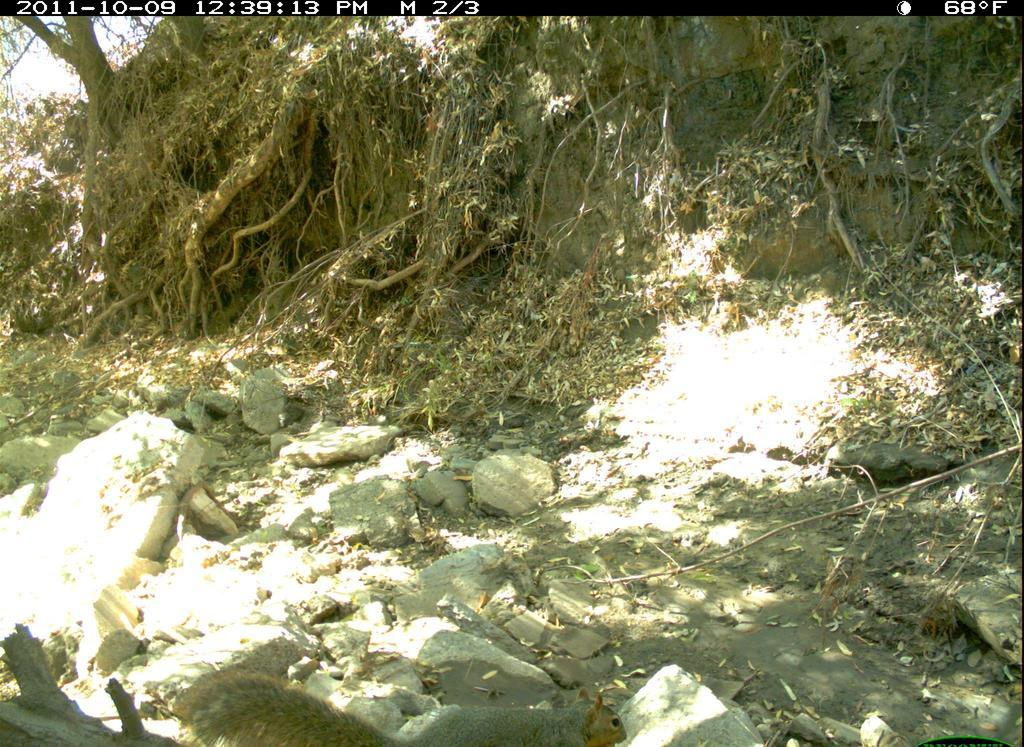squirrel: (166, 646, 637, 747)
